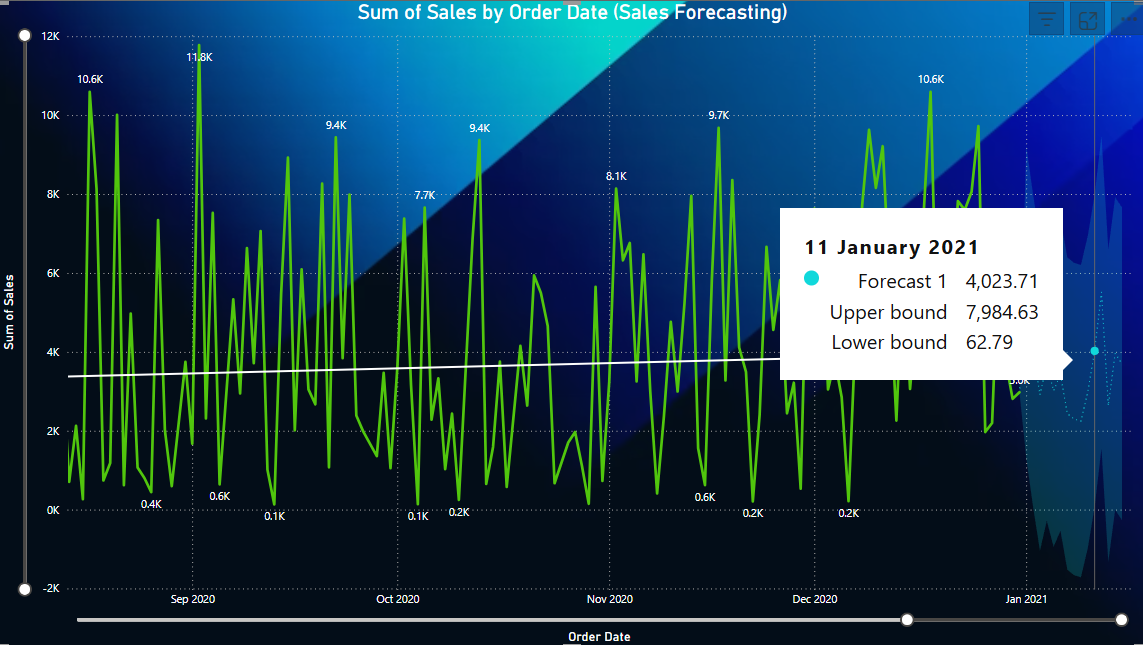

The dashboard page shown, as its layout file describes it:
{"tool":"powerbi","page":{"name":"Page 2","canvas":[1280,720],"ordinal":1},"visuals":[{"type":"lineChart","title":"Sum of Sales by Order Date (Sales Forecasting)","fields":{"Y":["Sum(project2 bi.Sales)"],"Category":["project2 bi.Order Date"]},"box":[0,0,1280.1,720.6],"z":0}]}

Visuals, with their boxes in screenshot pixels (x1, y1, x2, y2), scaled from the page's 1280x720 canvas onto the 1143x645 screenshot:
"Sum of Sales by Order Date (Sales Forecasting)" lineChart: (x1=0, y1=0, x2=1142, y2=644)
